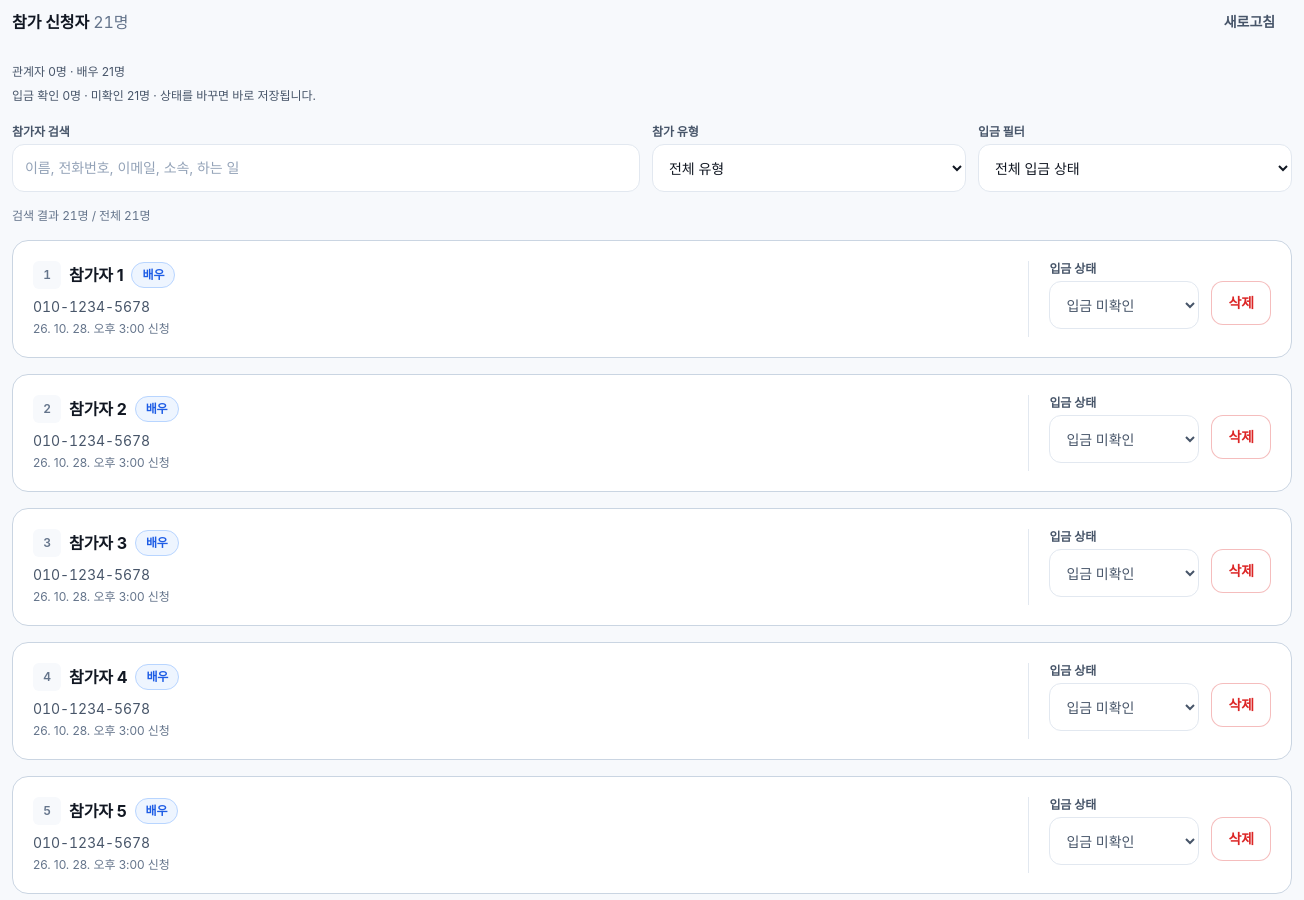
Test: 입금 미확인 필터의 마지막 페이지에서 확인 처리하면 유효한 이전 페이지를 보여 준다
Select "입금 미확인" in the dropdown labelled "입금 필터" at (1135, 168), box top-left (978, 144), bottom-right (1292, 192)
(page scrolled)
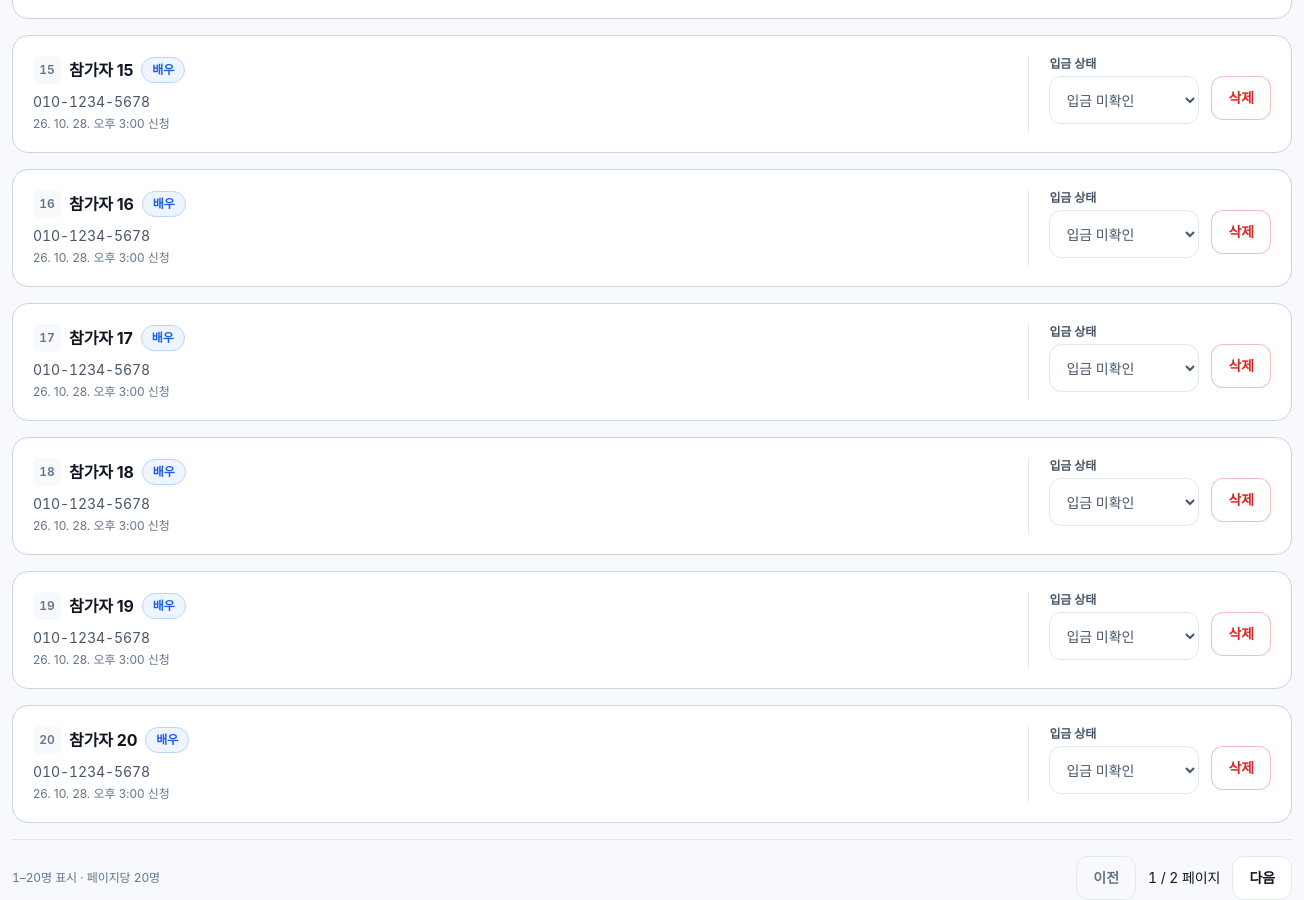
Click the button "다음" at (1262, 878), box top-left (1232, 856), bottom-right (1292, 899)
(page scrolled)
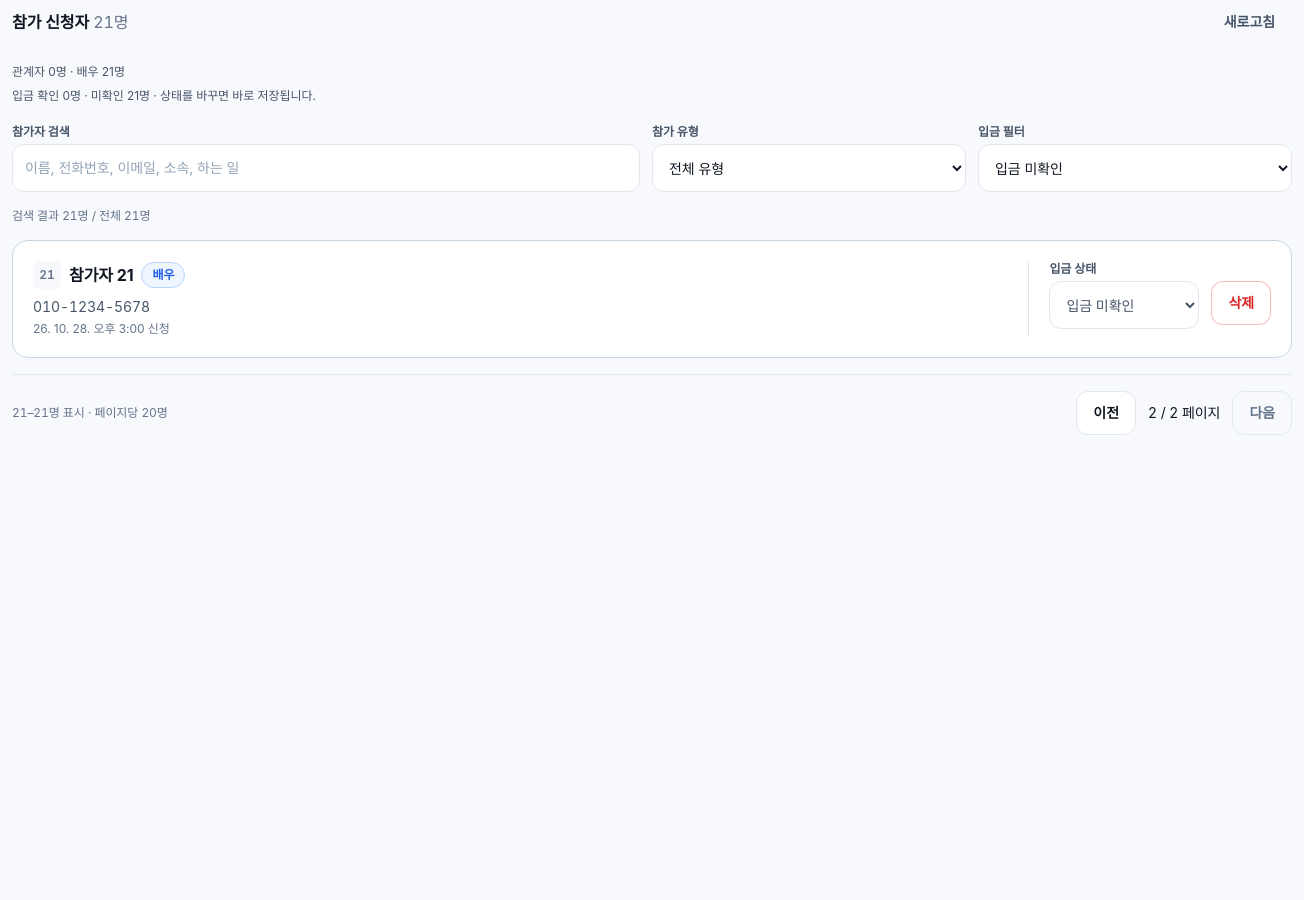
Select "입금 확인" in the dropdown labelled "입금 상태" at (1124, 305), box top-left (1049, 281), bottom-right (1199, 329)
(page scrolled)
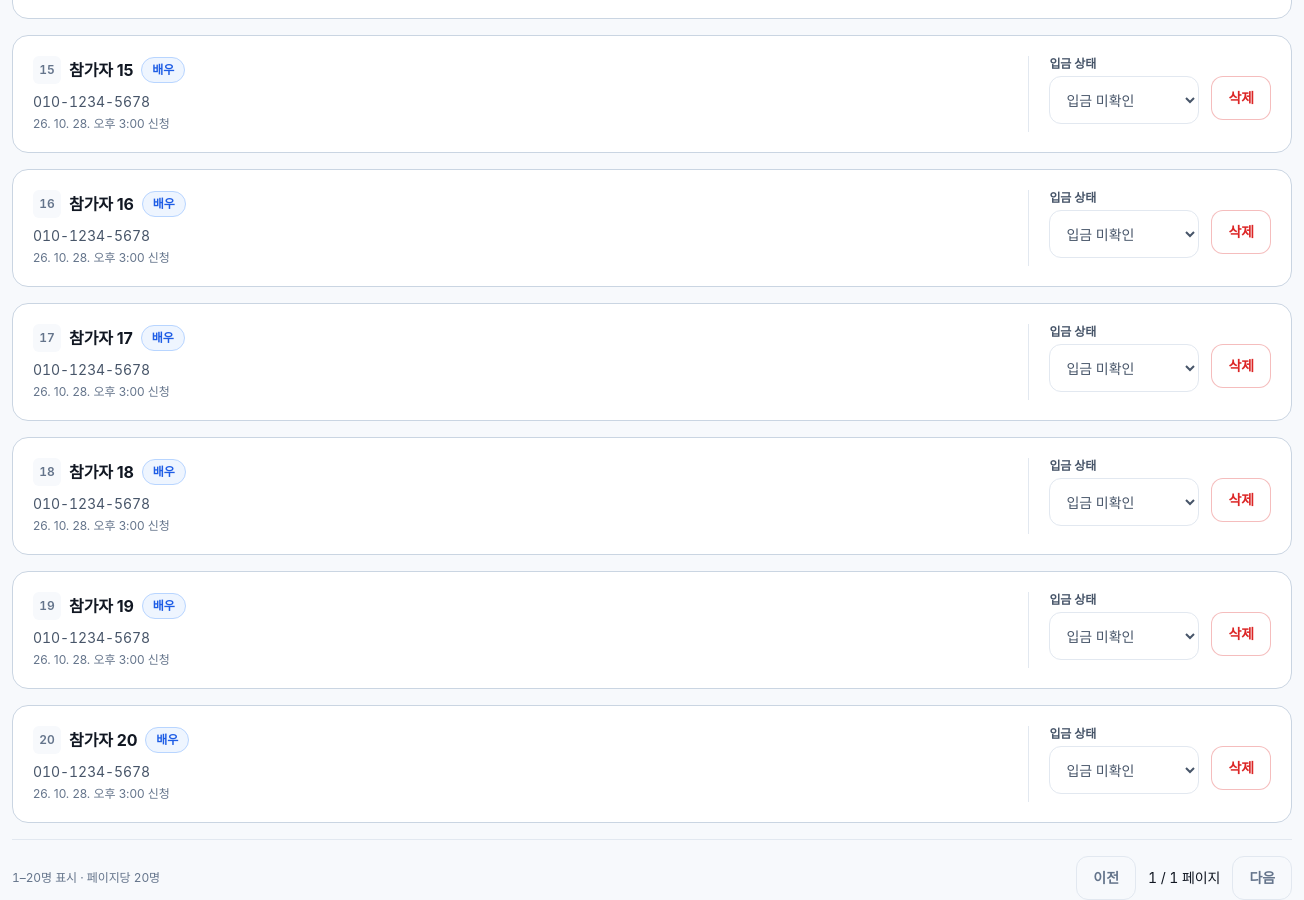
Expected: the navigation bar named "참가자 페이지" shows "1 / 1 페이지", top-left (12, 839), bottom-right (1292, 899)
